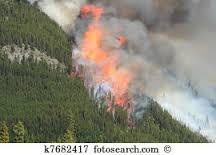fire: (75, 4, 134, 111)
